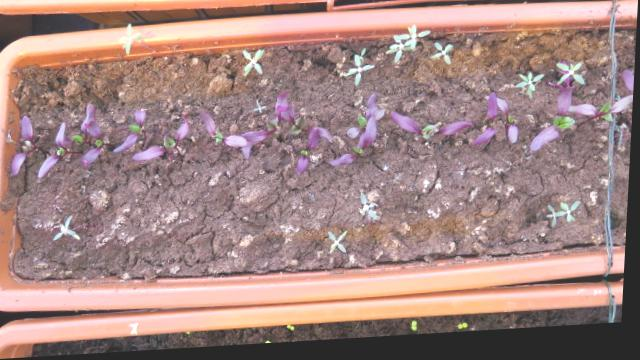weed: (51, 213, 85, 242), (237, 49, 267, 80), (325, 232, 353, 258), (429, 44, 454, 71)
